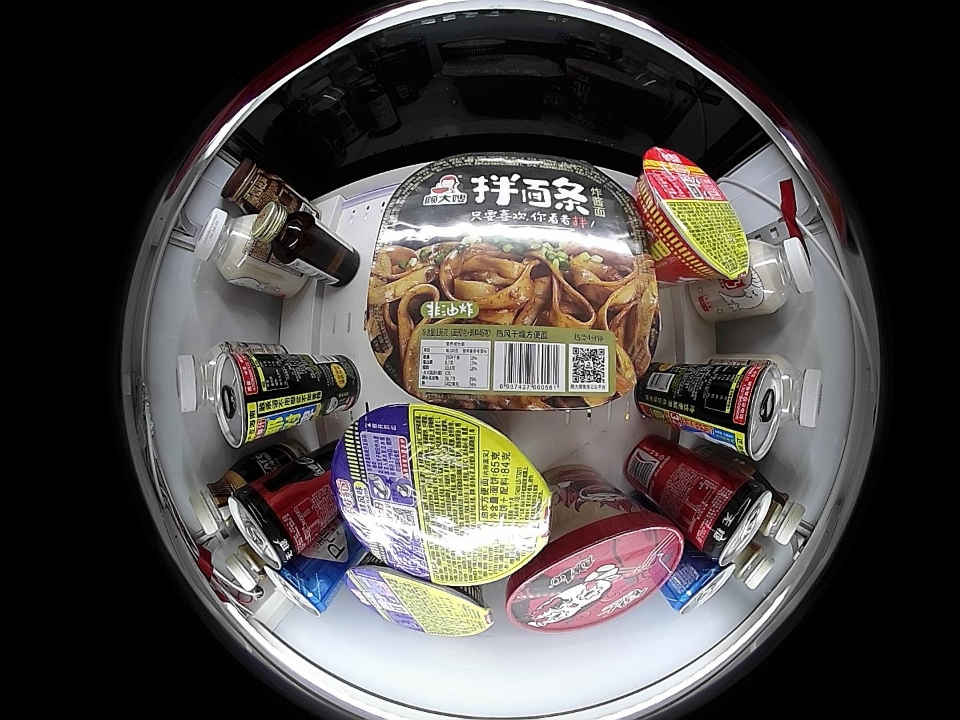gudasao: (363, 154, 661, 413)
heweidao: (332, 403, 551, 587), (344, 560, 493, 638)
heweidao3: (637, 148, 750, 284)
kafei: (190, 466, 250, 537), (756, 483, 805, 546), (224, 540, 272, 591), (729, 538, 776, 590)
libaojian: (250, 199, 314, 262)
lingdukele: (687, 470, 773, 567), (228, 476, 309, 572)
lujikafei: (220, 157, 279, 213)
qingdaowangzi-2: (264, 556, 339, 617), (664, 554, 735, 615)
suanlafen: (506, 507, 684, 633)
weiweidounai: (744, 236, 815, 313), (194, 208, 262, 284), (178, 342, 235, 418), (764, 355, 822, 427)
yezhi: (718, 358, 786, 461), (212, 351, 272, 449)
